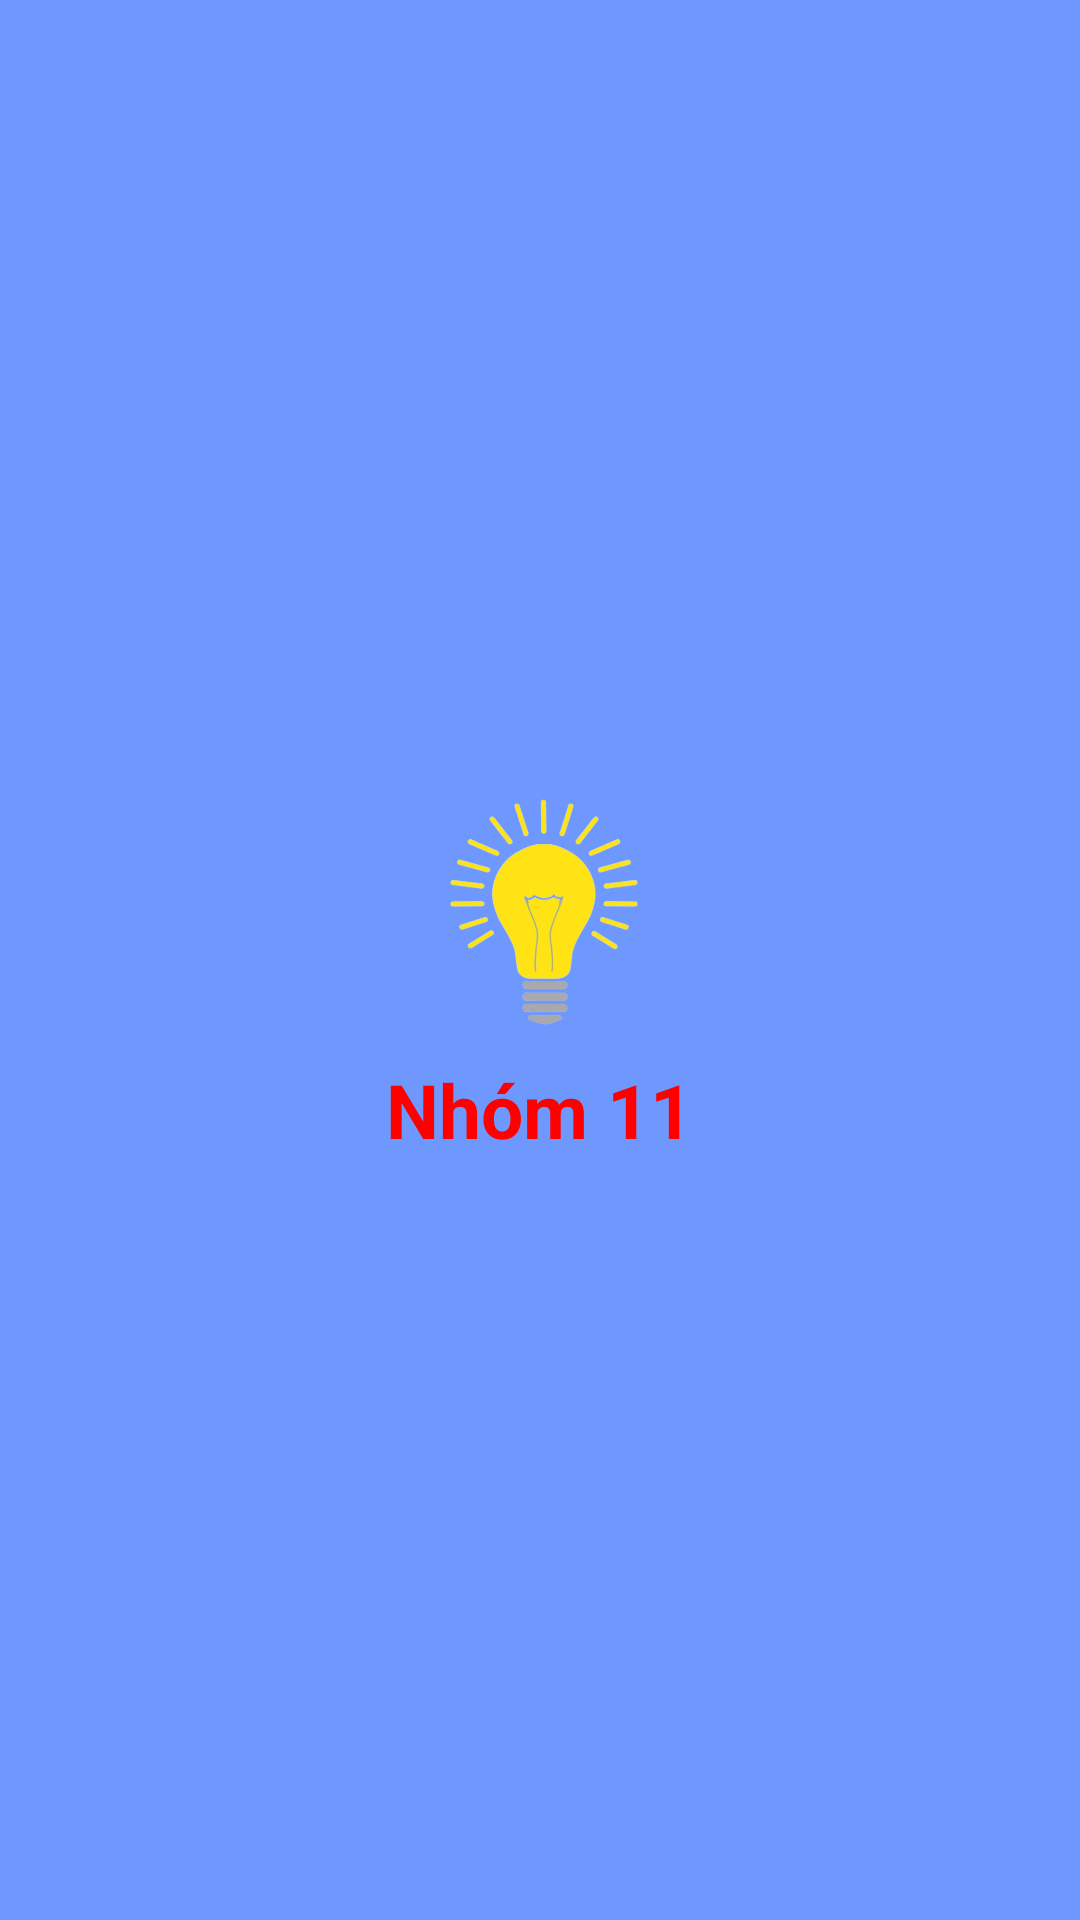

Icons on this 1080x1920 Android screen, each with the point to tap as [x,y]:
lamp: [544,912]
